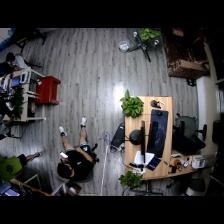normal: (56, 119, 95, 177), (2, 153, 42, 177), (4, 50, 29, 72)
